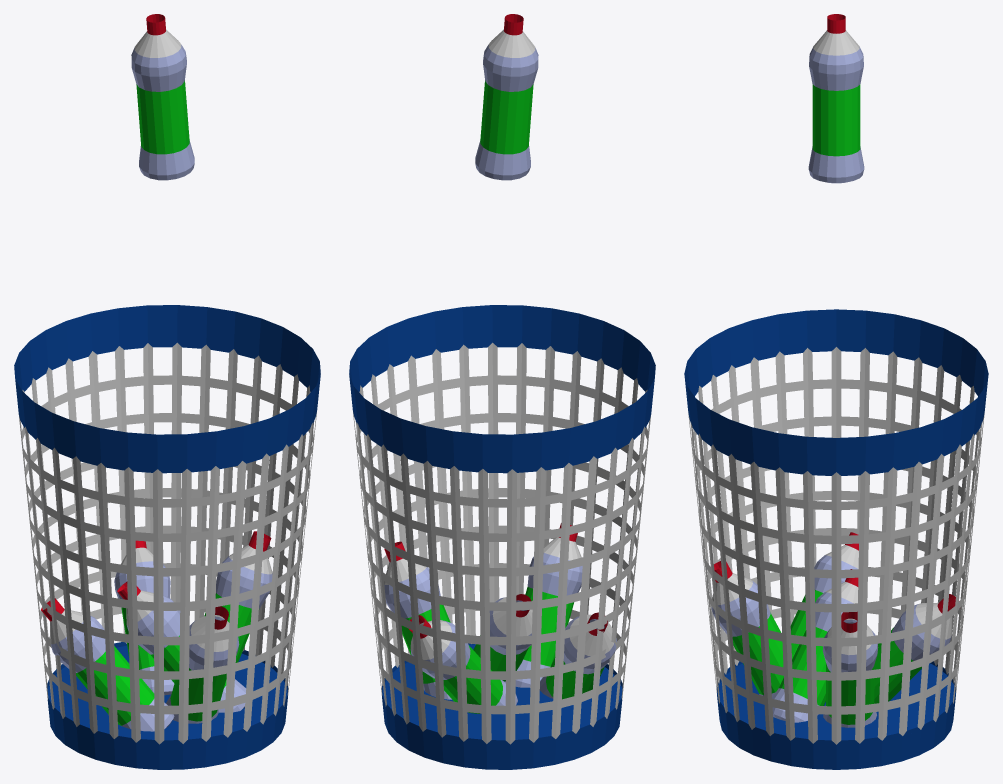
Rendered from DustbinWithCan_000009.obj.
3 views of the same model, side by side, from view 1: azimuth 30°, elevation 25°; view 2: azimuth 150°, elevation 25°; view 3: azimuth 270°, elevation 25° (orthographic).
Parts seen in each view (by area): view 1: Cylinder, Plane.006, Plane.005, Plane.001, Plane.004, Plane.003, Plane.002; view 2: Cylinder, Plane.006, Plane.001, Plane.002, Plane.005, Plane.003, Plane.004; view 3: Cylinder, Plane.006, Plane.001, Plane.004, Plane.003, Plane.002, Plane.005.
Part boxes in pixels (box(x1,y1,x2,y2)): Cylinder: box(14, 305, 320, 769); Plane.006: box(131, 14, 194, 180); Plane.005: box(41, 598, 174, 731); Plane.001: box(166, 606, 239, 723); Plane.004: box(117, 581, 246, 712); Plane.003: box(204, 531, 272, 662); Plane.002: box(114, 540, 174, 695); Cylinder: box(349, 305, 655, 769); Plane.006: box(475, 14, 538, 180); Plane.001: box(505, 523, 582, 687); Plane.002: box(409, 615, 517, 713); Plane.005: box(539, 612, 616, 699); Plane.003: box(384, 541, 451, 699); Plane.004: box(473, 594, 532, 681); Cylinder: box(684, 309, 988, 769); Plane.006: box(808, 14, 864, 183); Plane.001: box(711, 561, 793, 697); Plane.004: box(772, 569, 858, 722); Plane.003: box(822, 611, 878, 727); Plane.002: box(874, 594, 959, 703); Plane.005: box(790, 532, 858, 655).
Size of the model in its own units: 2.6 by 6.59 by 2.6.
